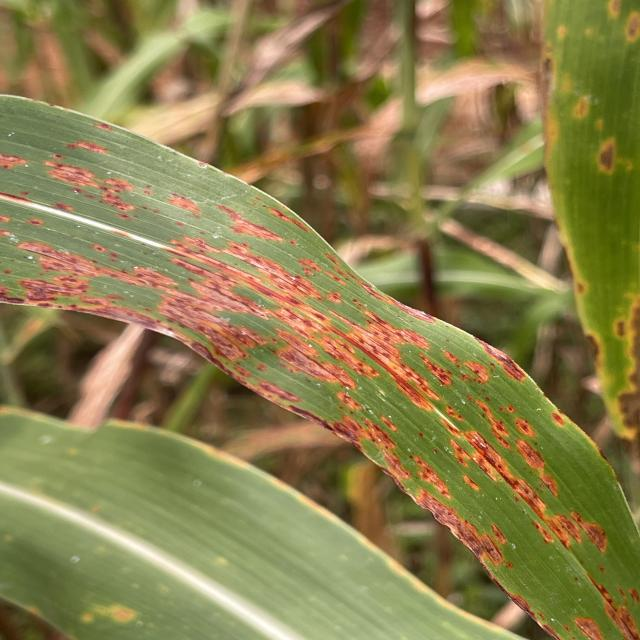millet_healthy: (0, 408, 524, 640)
millet_rust: (0, 95, 639, 639), (544, 0, 640, 442)
